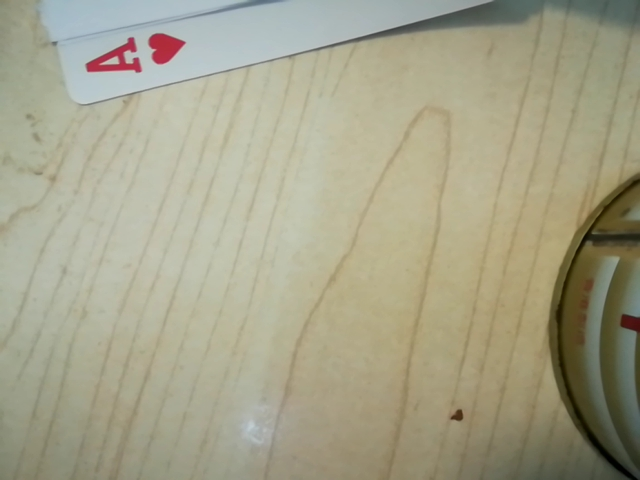hx a: (71, 23, 183, 88)
